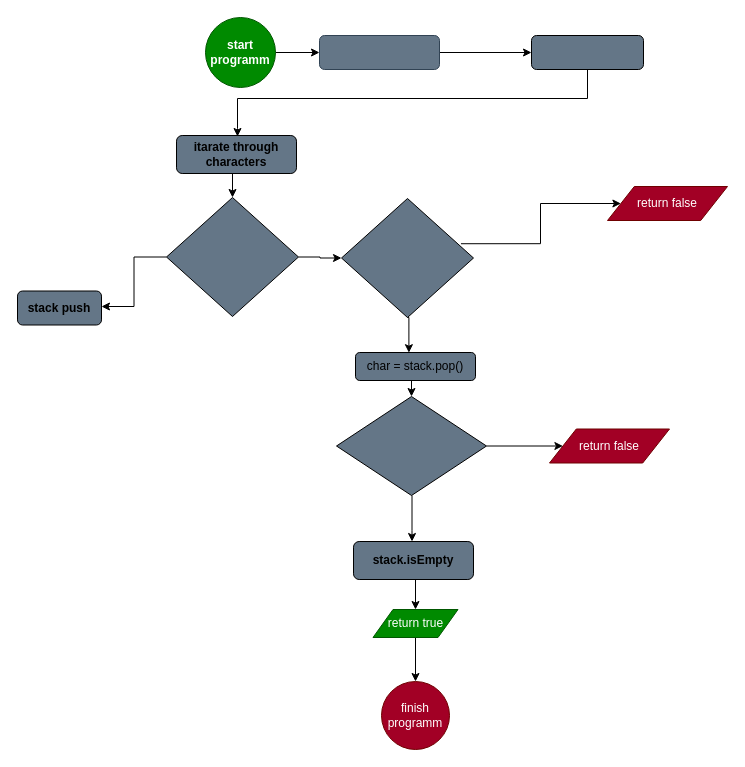
The diagram is 745 pixels wide and 767 high, and some of its shapes have lost their labels. Each missing label, with the box of its shape:
check brackets: (530, 34, 644, 70)
if char )}] &&!=({[ else: (336, 396, 486, 496)
if char == ({[ if char == )}]: (166, 196, 298, 316)
if stack.isEmpty else: (340, 198, 474, 318)
initialize Stack: (318, 34, 440, 70)
